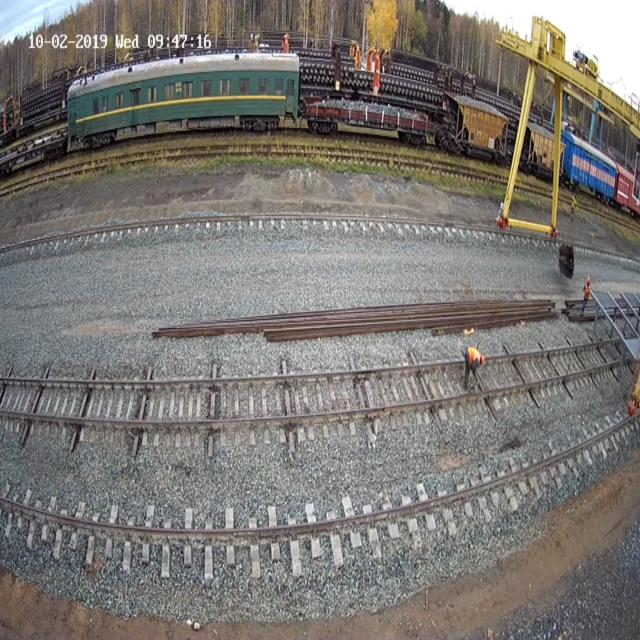Person: (463, 345, 486, 390), (580, 276, 591, 317)
